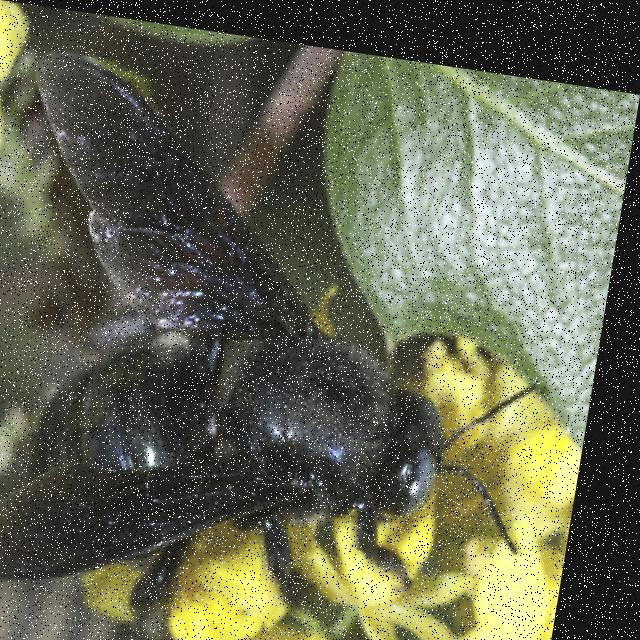Xylocopa: (0, 23, 588, 640)
